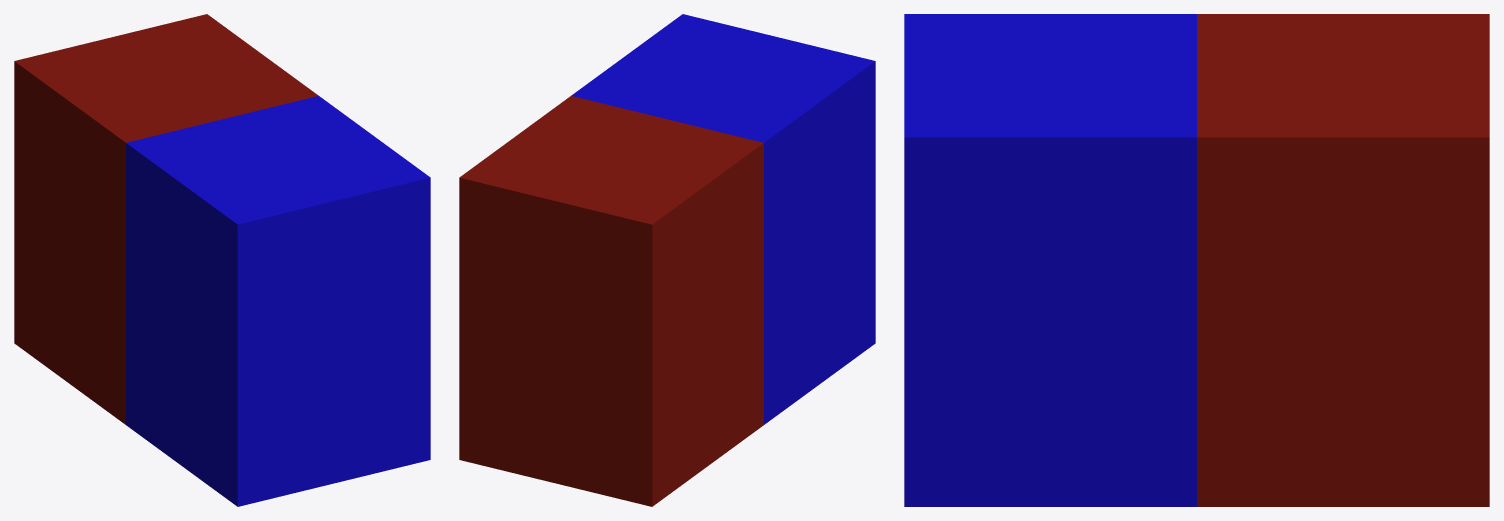
3 views of the same model, side by side, from view 1: azimuth 30°, elevation 25°; view 2: azimuth 150°, elevation 25°; view 3: azimuth 270°, elevation 25° (orthographic). The views are drawn at different scales.
Visible parts, largest first — view 1: Box001; view 2: Box001; view 3: Box001.
Part boxes in pixels (left/top/right/bottom): Box001: left=14, top=14, right=430, bottom=506; Box001: left=459, top=14, right=875, bottom=506; Box001: left=904, top=14, right=1489, bottom=506.
Bounding box in the file's own units: 22.12 × 30.93 × 44.39.
